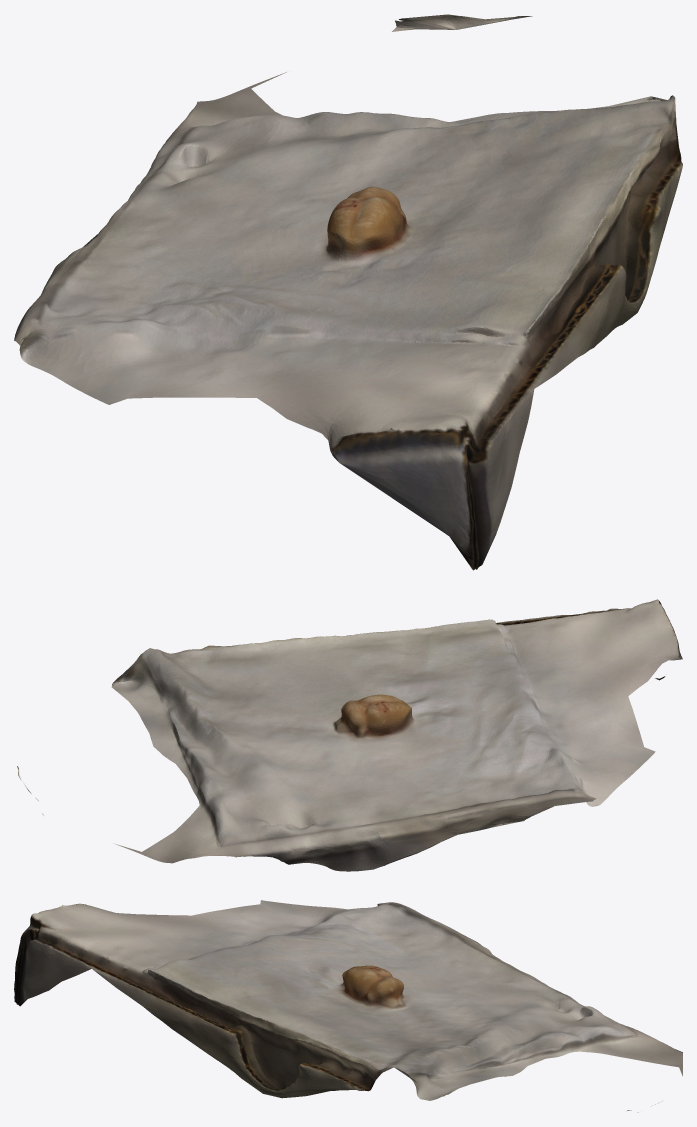
Rendered from EMF16 DEF #4.glb.
3 views of the same model, one above another, from view 1: azimuth 30°, elevation 25°; view 2: azimuth 150°, elevation 25°; view 3: azimuth 270°, elevation 25° (orthographic). The views are drawn at different scales.
Bounding box in the file's own units: 1.54 × 0.308 × 1.95.
Materials: 1 (1 with a texture image).
